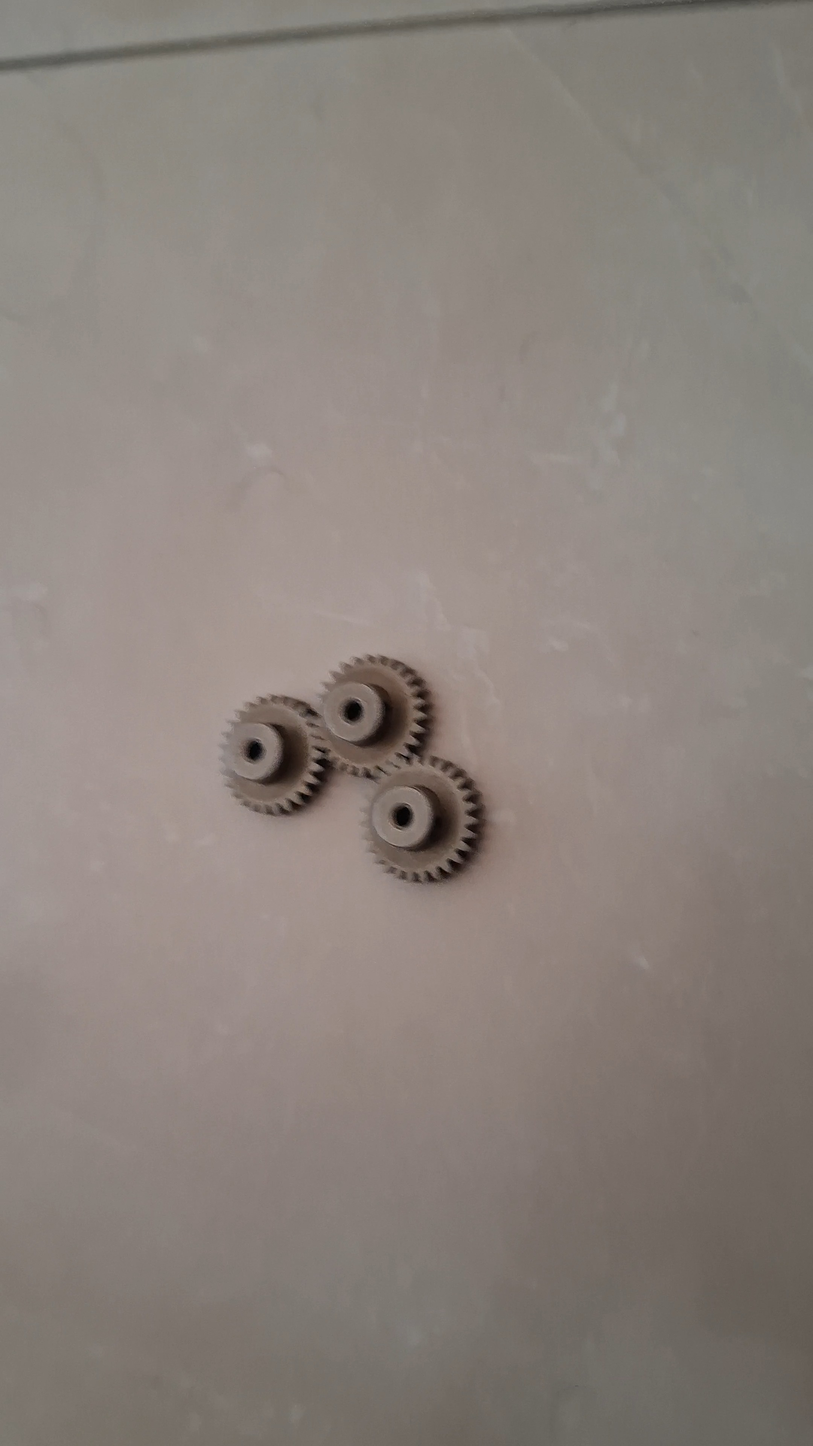spur gear: (365, 758, 481, 882), (320, 655, 429, 777), (222, 696, 327, 815)
